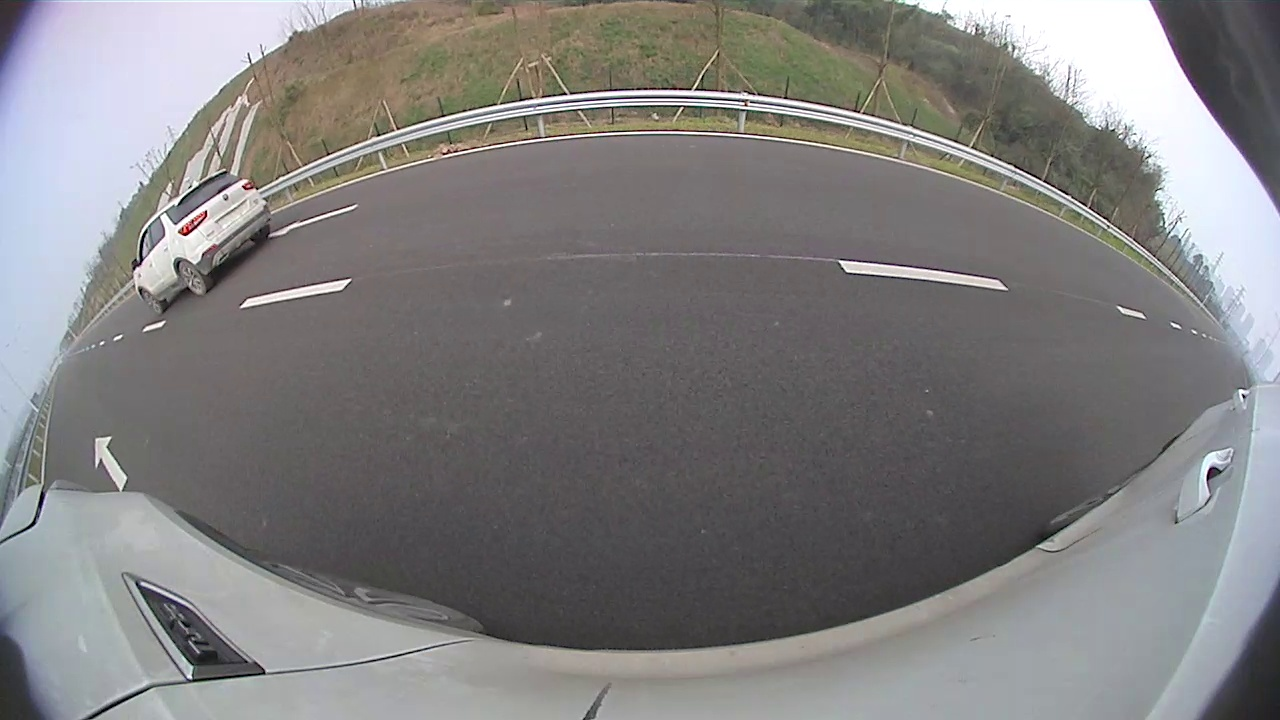car: (132, 167, 271, 316)
rear: (175, 259, 209, 298)
